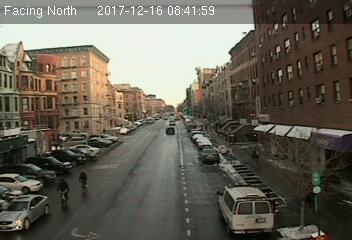bicycle: (57, 176, 72, 211), (78, 171, 90, 198)
car: (1, 192, 47, 233), (199, 148, 220, 163), (165, 127, 175, 134)
police: (216, 181, 275, 237)
